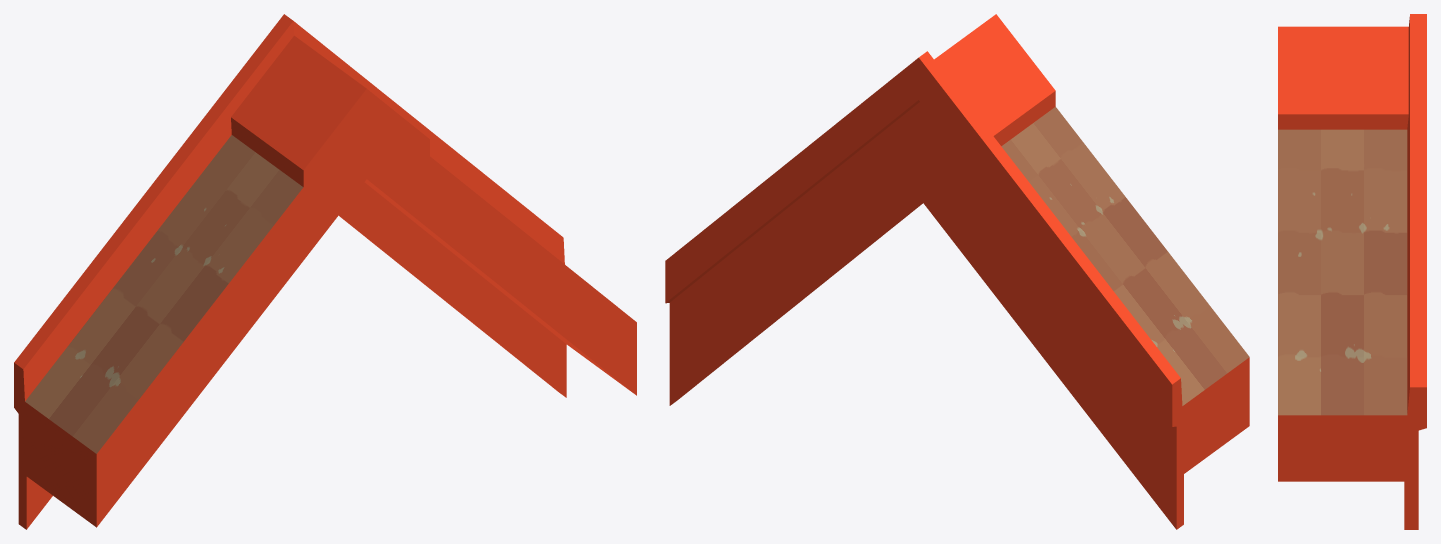
The model's file is roof-regular-1m-front-center.fbx.
3 renders of one model, left to right at view 1: azimuth 30°, elevation 25°; view 2: azimuth 150°, elevation 25°; view 3: azimuth 270°, elevation 25°, orthographic. The views are drawn at different scales.
Parts seen in each view (by area): view 1: roof-regular-1m-front-center; view 2: roof-regular-1m-front-center; view 3: roof-regular-1m-front-center.
Boxes of the visible parts, x1,y1,x2,y2 form: roof-regular-1m-front-center: [14, 14, 636, 529]; roof-regular-1m-front-center: [665, 14, 1249, 529]; roof-regular-1m-front-center: [1278, 14, 1426, 529].
Bounding box in the file's own units: 2 × 1.56 × 0.53.
